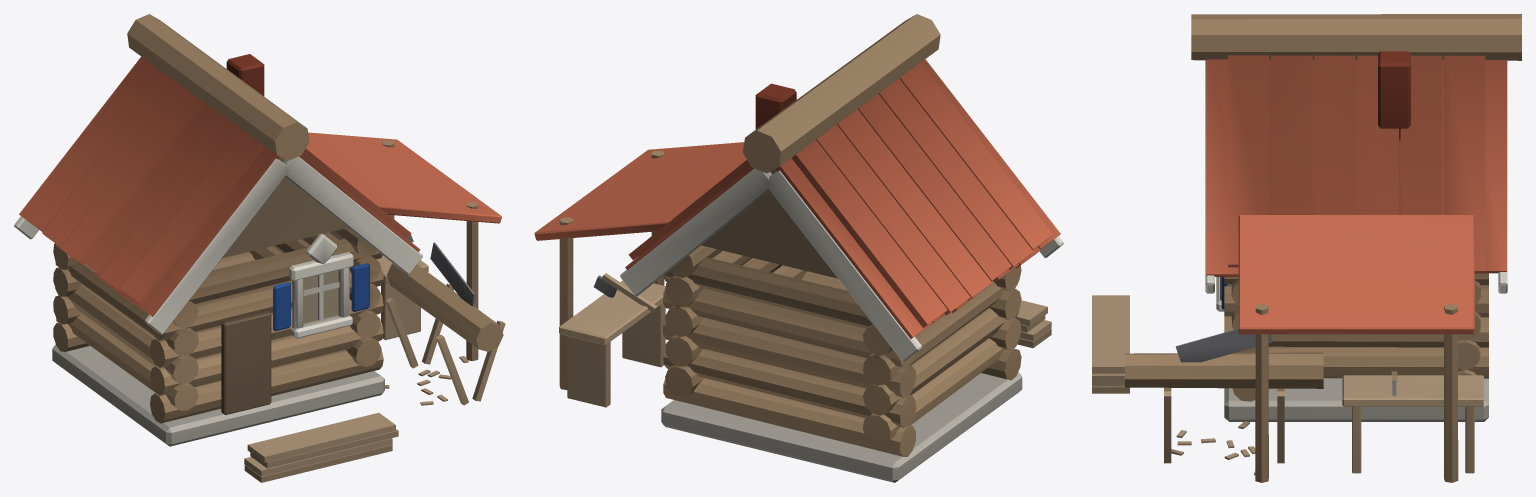
Rendered from bld_izba_plotnika_e1.glb.
The picture shows the model from 3 angles, left to right: view 1: azimuth 30°, elevation 25°; view 2: azimuth 150°, elevation 25°; view 3: azimuth 270°, elevation 25°; orthographic projection. The views are drawn at different scales.
Visible parts, largest first — view 1: izba_plotnika; view 2: izba_plotnika; view 3: izba_plotnika.
Boxes of the visible parts, box(x1,y1,x2,y2) form: izba_plotnika: box(14, 14, 505, 482); izba_plotnika: box(534, 14, 1063, 482); izba_plotnika: box(1092, 14, 1521, 482).
Bounding box in the file's own units: 1.01 × 0.8187 × 0.91.
